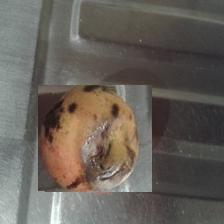Mango Rotten: (38, 86, 152, 193)
